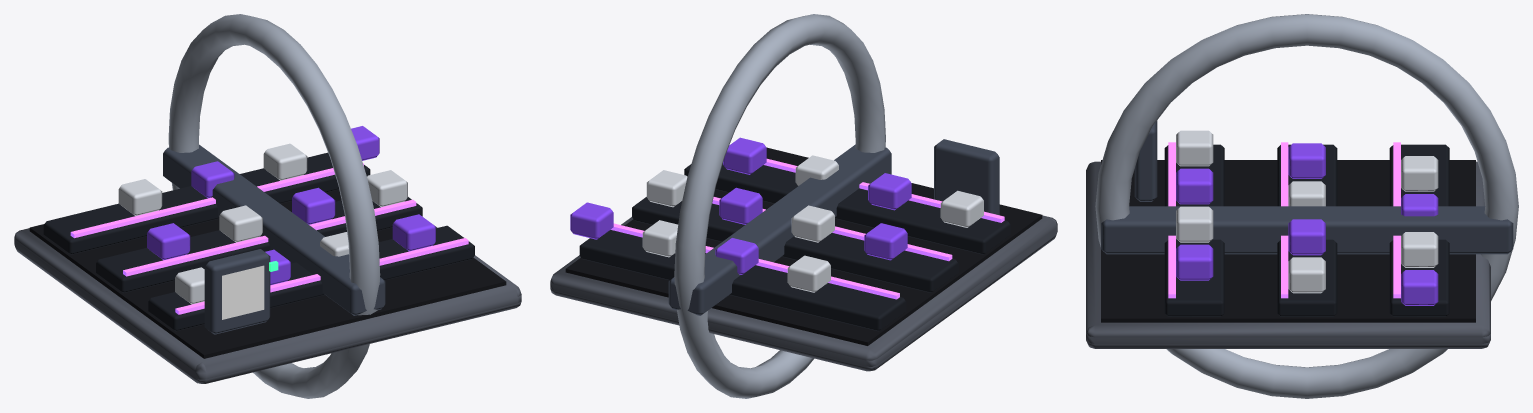
The model's file is kinesis.glb.
3 views of the same model, side by side, from view 1: azimuth 30°, elevation 25°; view 2: azimuth 150°, elevation 25°; view 3: azimuth 270°, elevation 25° (orthographic). The views are drawn at different scales.
Parts seen in each view (by area): view 1: body.steel_light, body.bezel, body.concrete, body.rubber, body.steel, body.white, body.accent, body.accent_glow, body.badge; view 2: body.bezel, body.steel_light, body.concrete, body.steel, body.rubber, body.accent, body.white, body.accent_glow; view 3: body.steel_light, body.rubber, body.steel, body.concrete, body.bezel, body.white, body.accent, body.accent_glow.
Boxes of the visible parts, bbox=[...] form: body.steel_light: bbox=[168, 14, 380, 398]; body.bezel: bbox=[43, 152, 474, 331]; body.concrete: bbox=[14, 225, 521, 383]; body.rubber: bbox=[29, 189, 506, 358]; body.steel: bbox=[163, 144, 385, 334]; body.white: bbox=[118, 143, 407, 304]; body.accent: bbox=[147, 126, 435, 285]; body.accent_glow: bbox=[70, 163, 468, 314]; body.badge: bbox=[222, 265, 264, 319]; body.bezel: bbox=[579, 163, 1010, 331]; body.steel_light: bbox=[674, 14, 885, 398]; body.concrete: bbox=[550, 215, 1057, 371]; body.steel: bbox=[668, 139, 999, 315]; body.rubber: bbox=[565, 147, 1042, 345]; body.accent: bbox=[570, 137, 911, 274]; body.white: bbox=[642, 155, 983, 292]; body.accent_glow: bbox=[610, 158, 1004, 299]; body.steel_light: bbox=[1095, 14, 1518, 398]; body.rubber: bbox=[1101, 160, 1475, 322]; body.steel: bbox=[1101, 120, 1513, 254]; body.concrete: bbox=[1086, 161, 1490, 348]; body.bezel: bbox=[1164, 144, 1449, 316]; body.white: bbox=[1176, 130, 1438, 293]; body.accent: bbox=[1176, 143, 1438, 305]; body.accent_glow: bbox=[1168, 142, 1400, 298].
Size of the model in its own units: 1.09 by 1.13 by 1.16.
